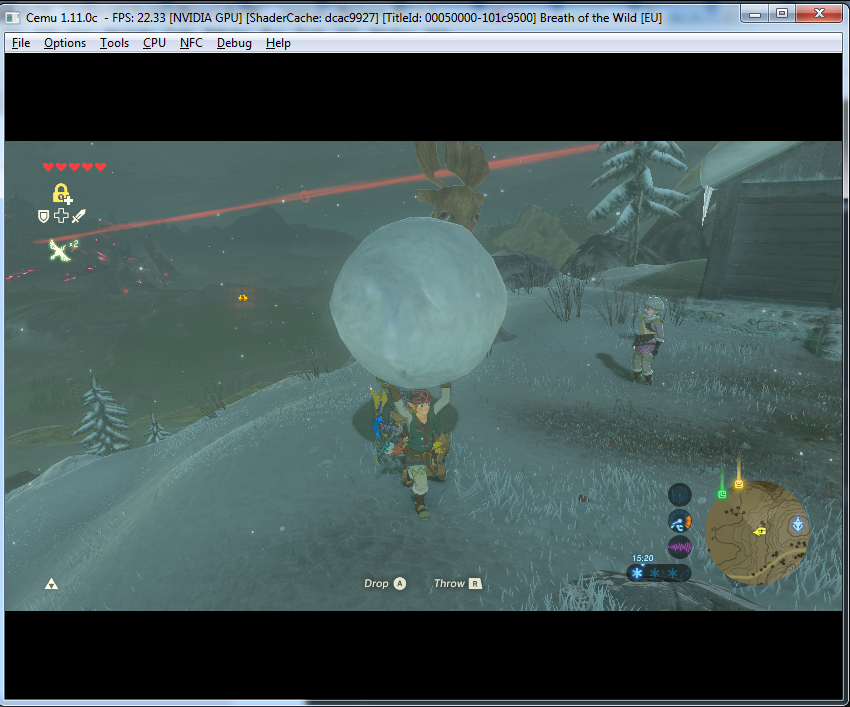dude: (623, 289, 670, 390)
link: (362, 370, 454, 523)
snowball: (329, 213, 513, 393)
